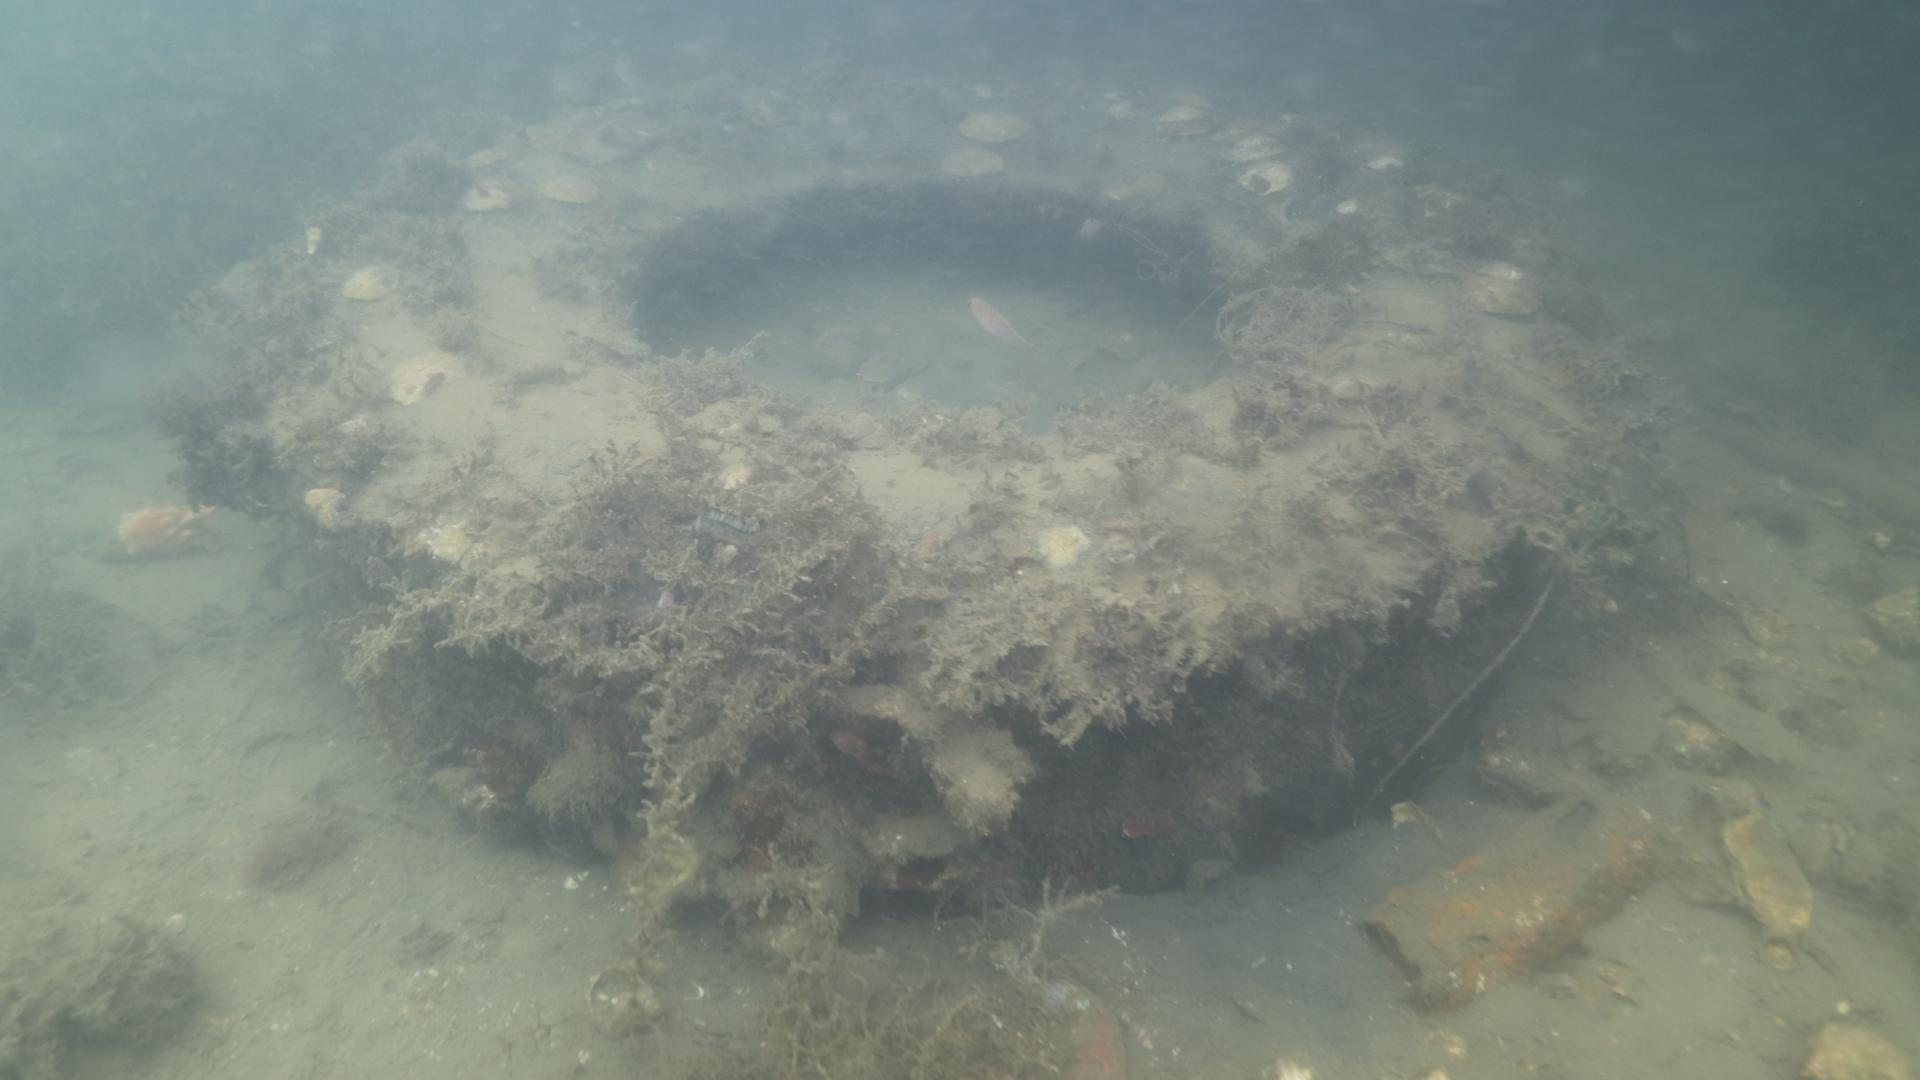tire: (261, 58, 1596, 919)
